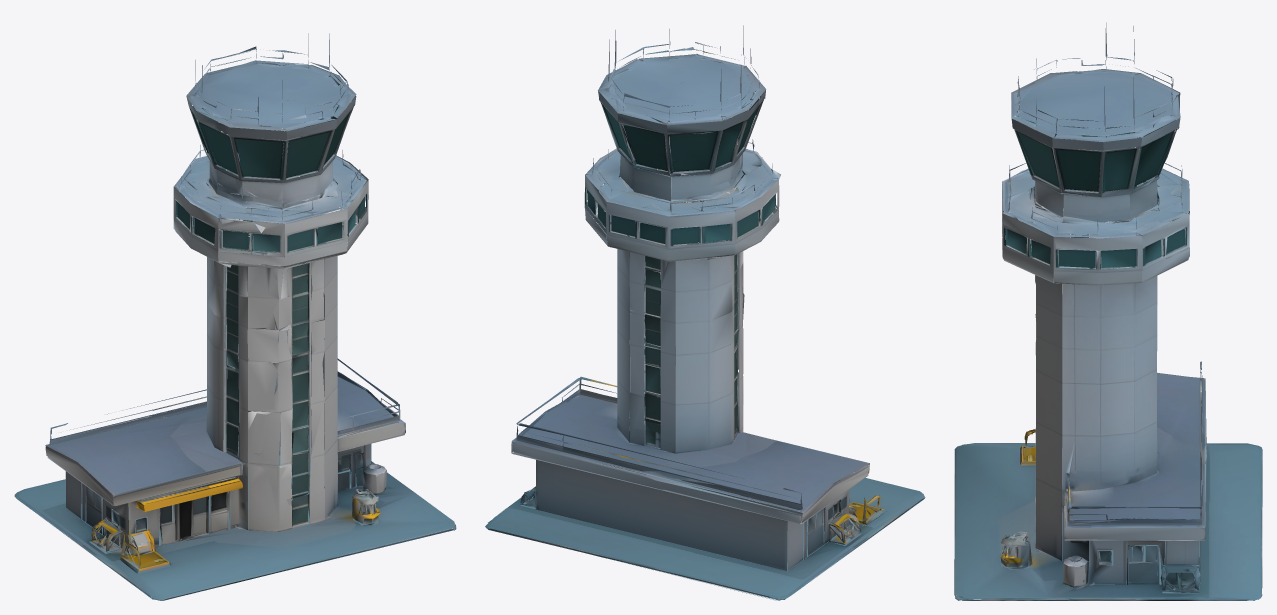
File: air-traffic-control-2.glb
3 views of the same model, side by side, from view 1: azimuth 30°, elevation 25°; view 2: azimuth 150°, elevation 25°; view 3: azimuth 270°, elevation 25° (orthographic). The views are drawn at different scales.
Visible parts, largest first — view 1: node_0; view 2: node_0; view 3: node_0.
Part boxes in pixels (x1,y1,x2,y2): node_0: (14,33,456,600); node_0: (485,25,925,600); node_0: (954,22,1262,600).
Bounding box in the file's own units: 21.74 × 32.02 × 18.16.
Materials: 1 (1 with a texture image).
